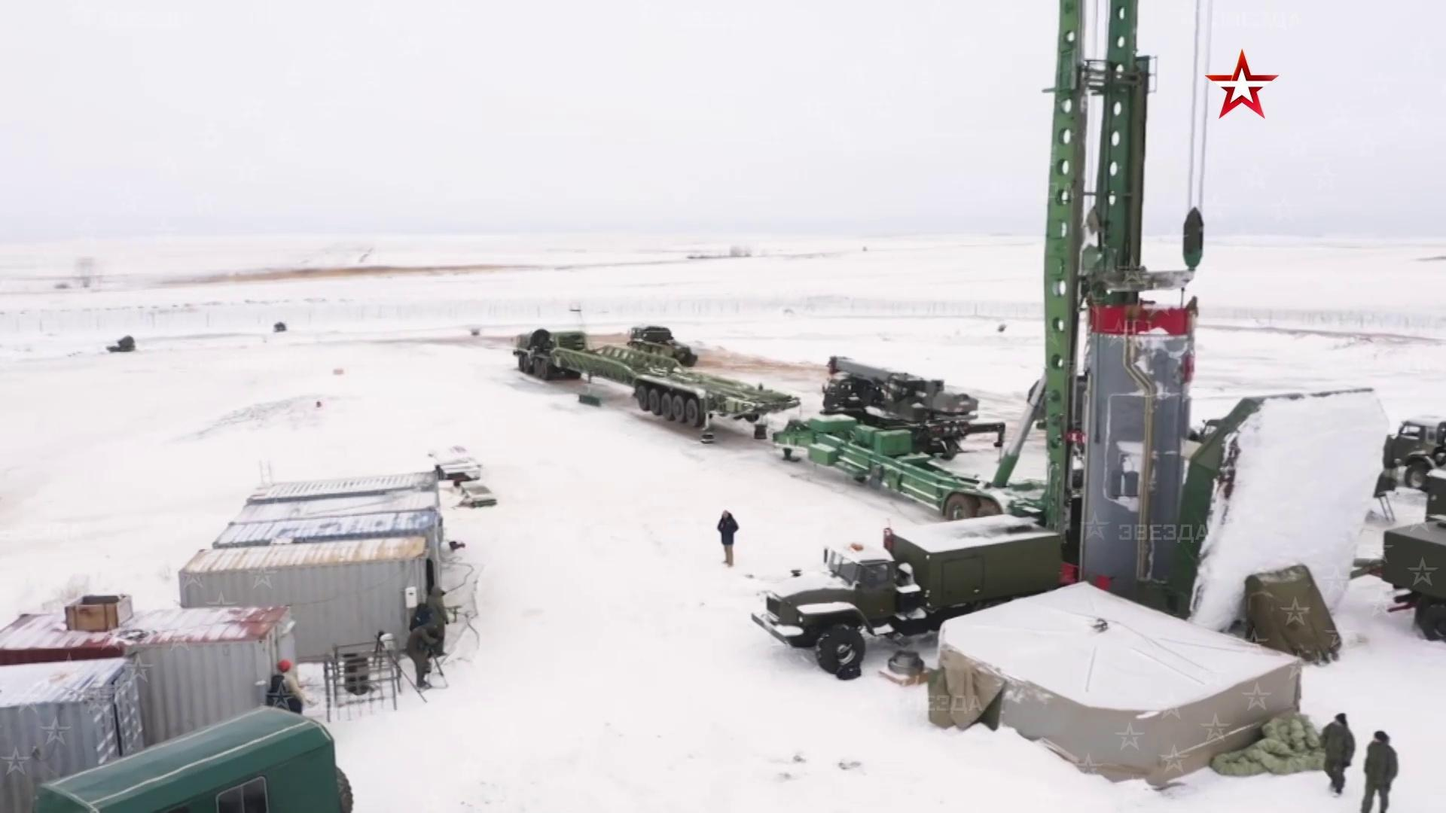person: (1358, 729, 1400, 813), (1318, 712, 1355, 797), (408, 615, 442, 697), (417, 584, 449, 662), (273, 660, 305, 723), (715, 510, 740, 568)
truck: (751, 512, 1063, 676)
